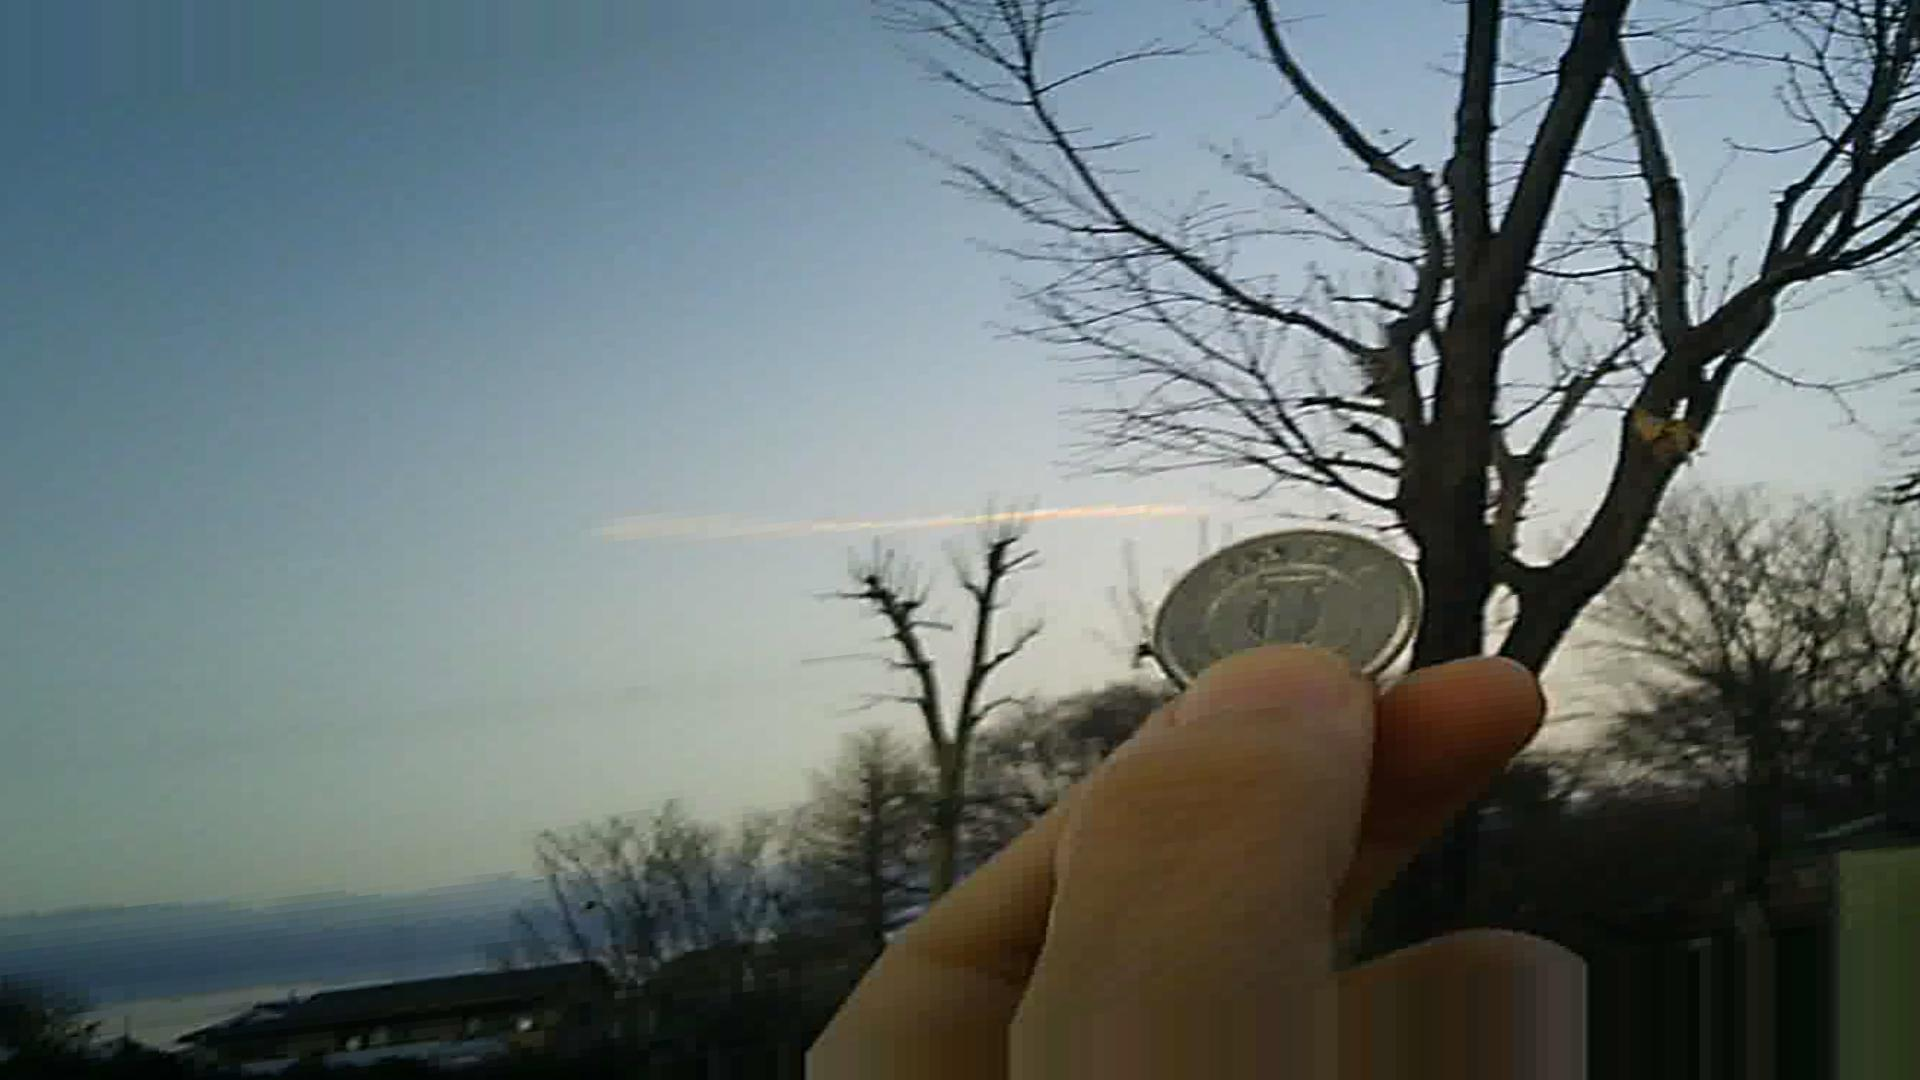1 Yen: (1146, 513, 1414, 702)
